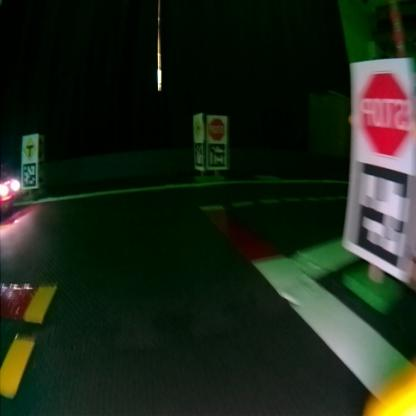Duckiebot: (1, 170, 20, 212)
Intersection sign: (23, 136, 36, 158), (196, 116, 202, 140)
QR code: (357, 170, 409, 267), (22, 163, 38, 188), (210, 144, 226, 166), (195, 142, 203, 166)
Stop sign: (353, 66, 413, 158), (209, 116, 225, 140)
